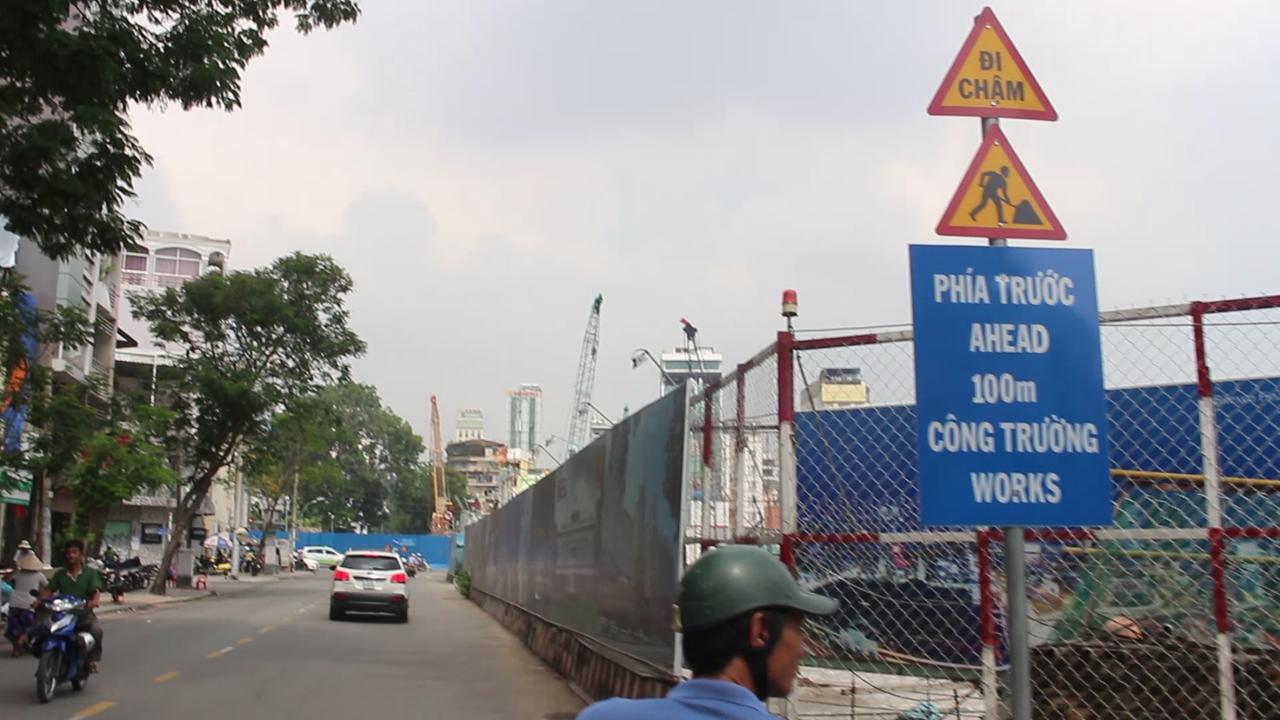P.117: (929, 122, 1072, 244)
R.301d: (922, 2, 1061, 118)
